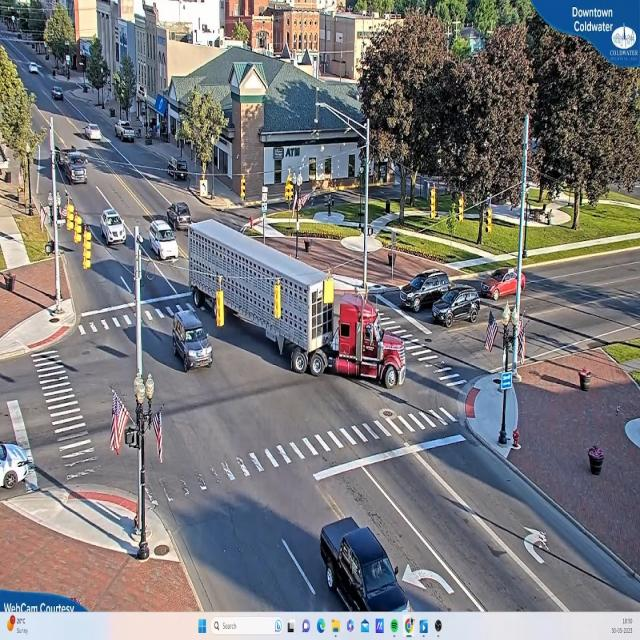car: (321, 516, 411, 612), (170, 308, 215, 368), (398, 270, 455, 311), (432, 290, 480, 328), (0, 443, 38, 491), (483, 270, 528, 304), (145, 218, 179, 260), (99, 208, 129, 246), (166, 205, 192, 232), (118, 120, 138, 143), (52, 87, 65, 100)
truck: (188, 216, 410, 386)
